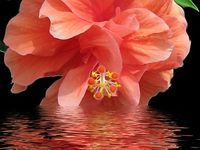Hibiscus: (2, 2, 194, 105)
